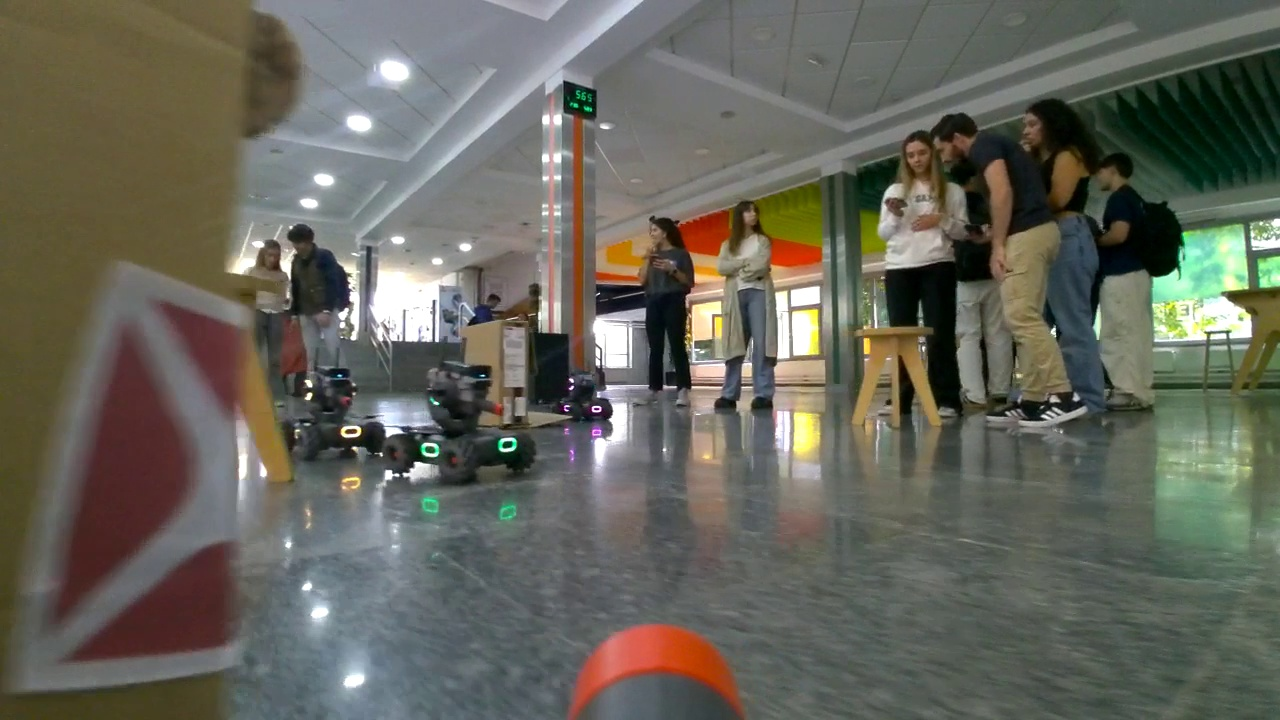robot: (377, 360, 544, 484), (272, 366, 389, 458), (555, 369, 618, 422)
